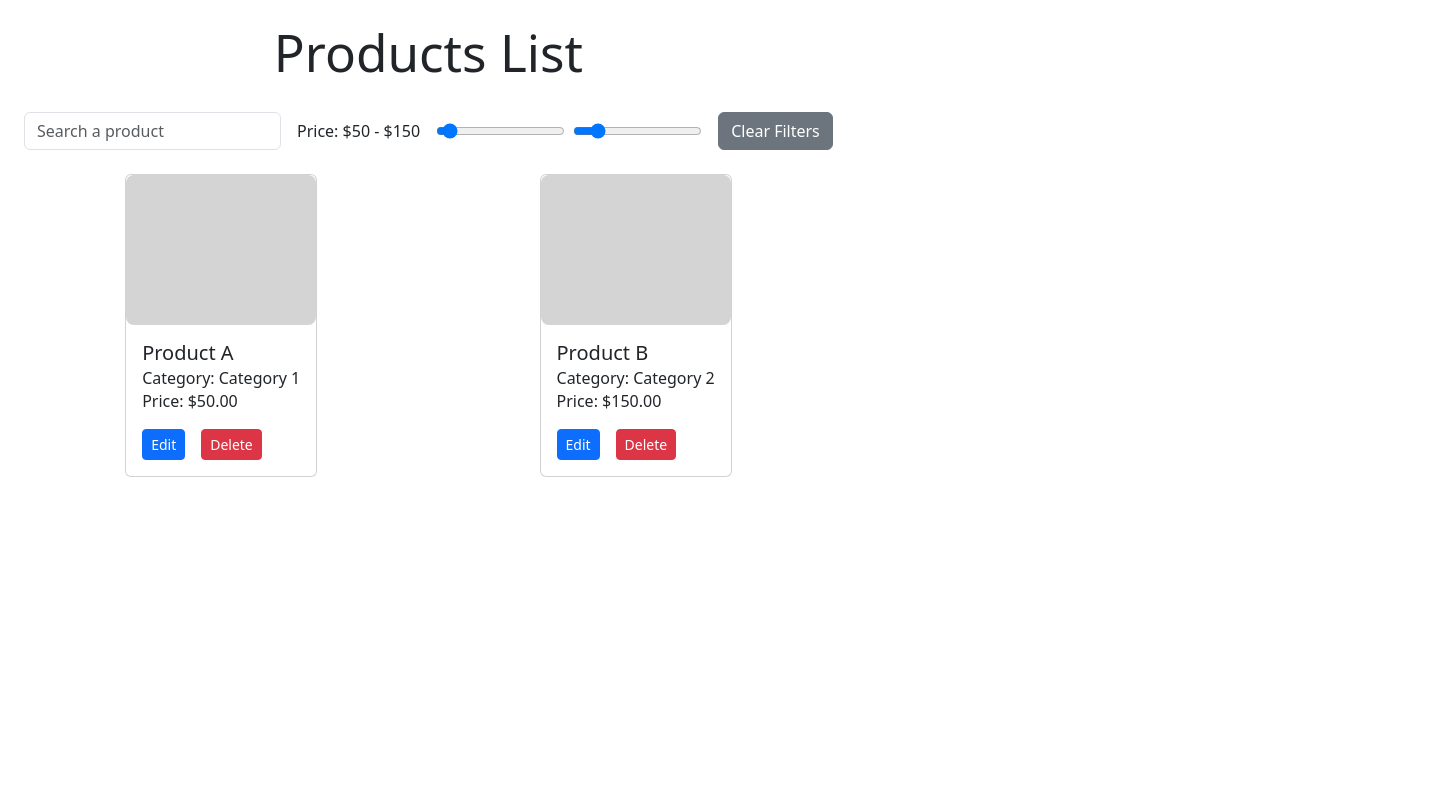
it: ProductList Component › opens and submits the edit modal
Expected: the text "Product A" is shown, [142, 339, 234, 366]
Click the button "Edit" below "Category 1" at [164, 444], box [142, 428, 185, 460]
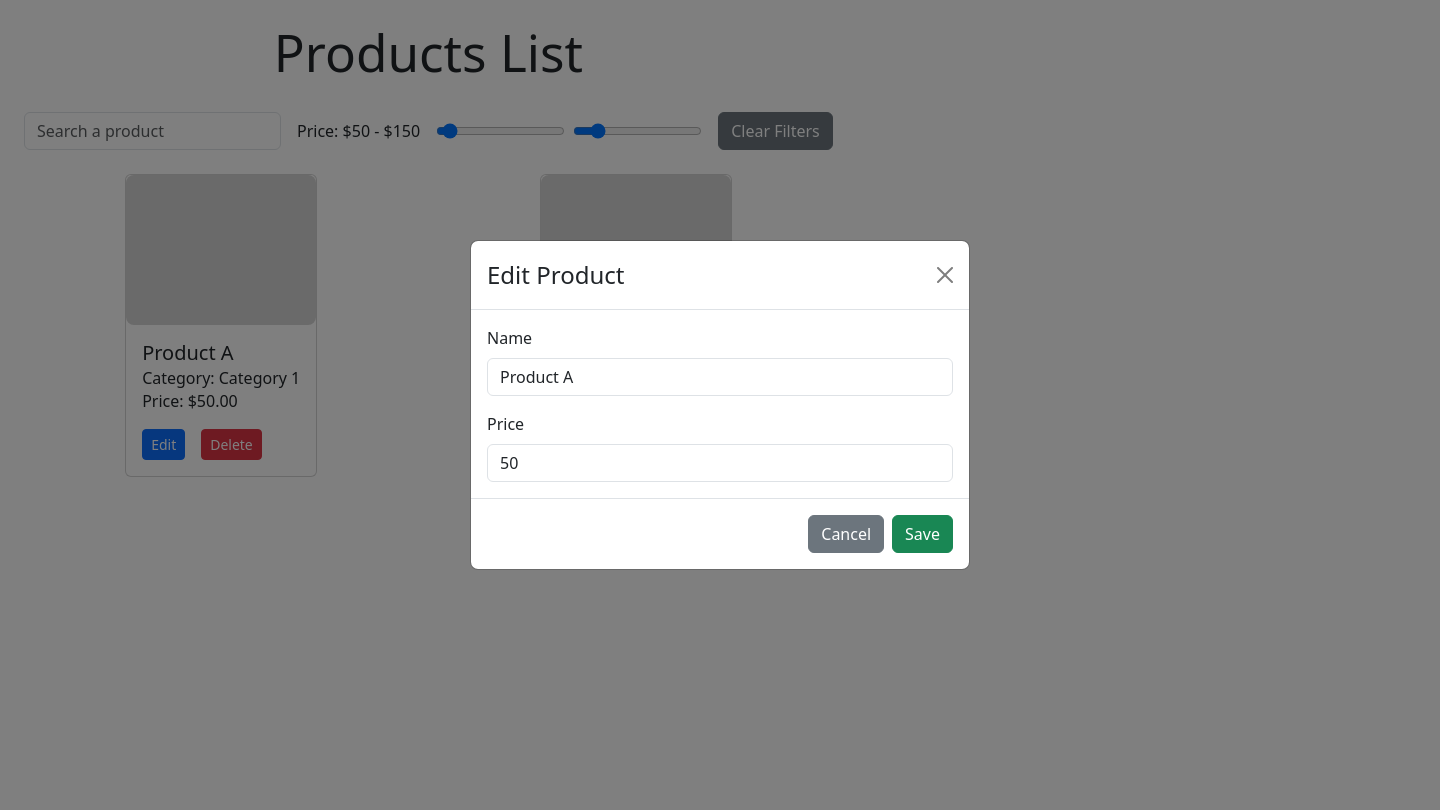
Replace the text in the field labelled "Name" with "Updated Product A" at [720, 377], box [487, 358, 953, 396]
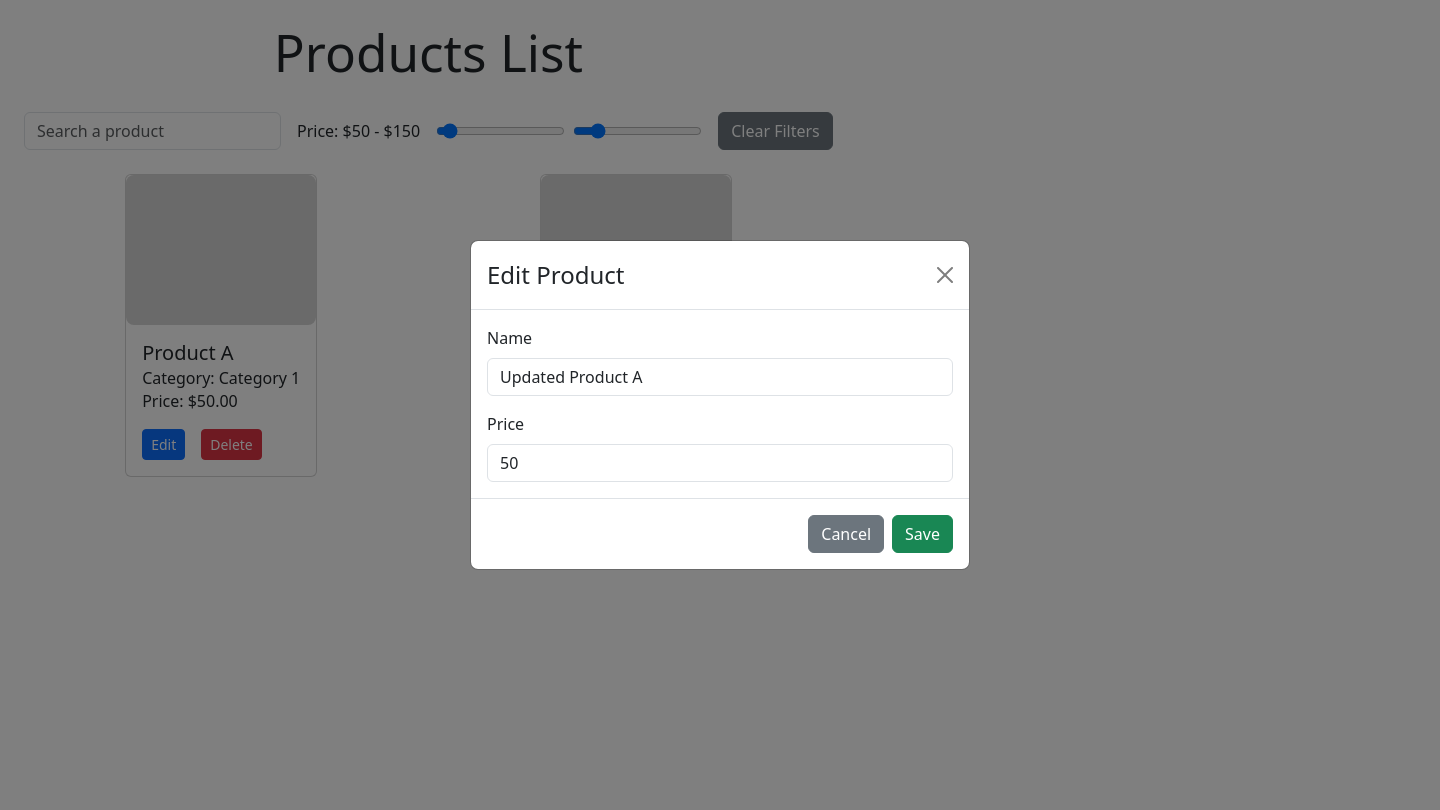
Replace the text in the number field labelled "Price" with "100" at [720, 463], box [487, 444, 953, 482]
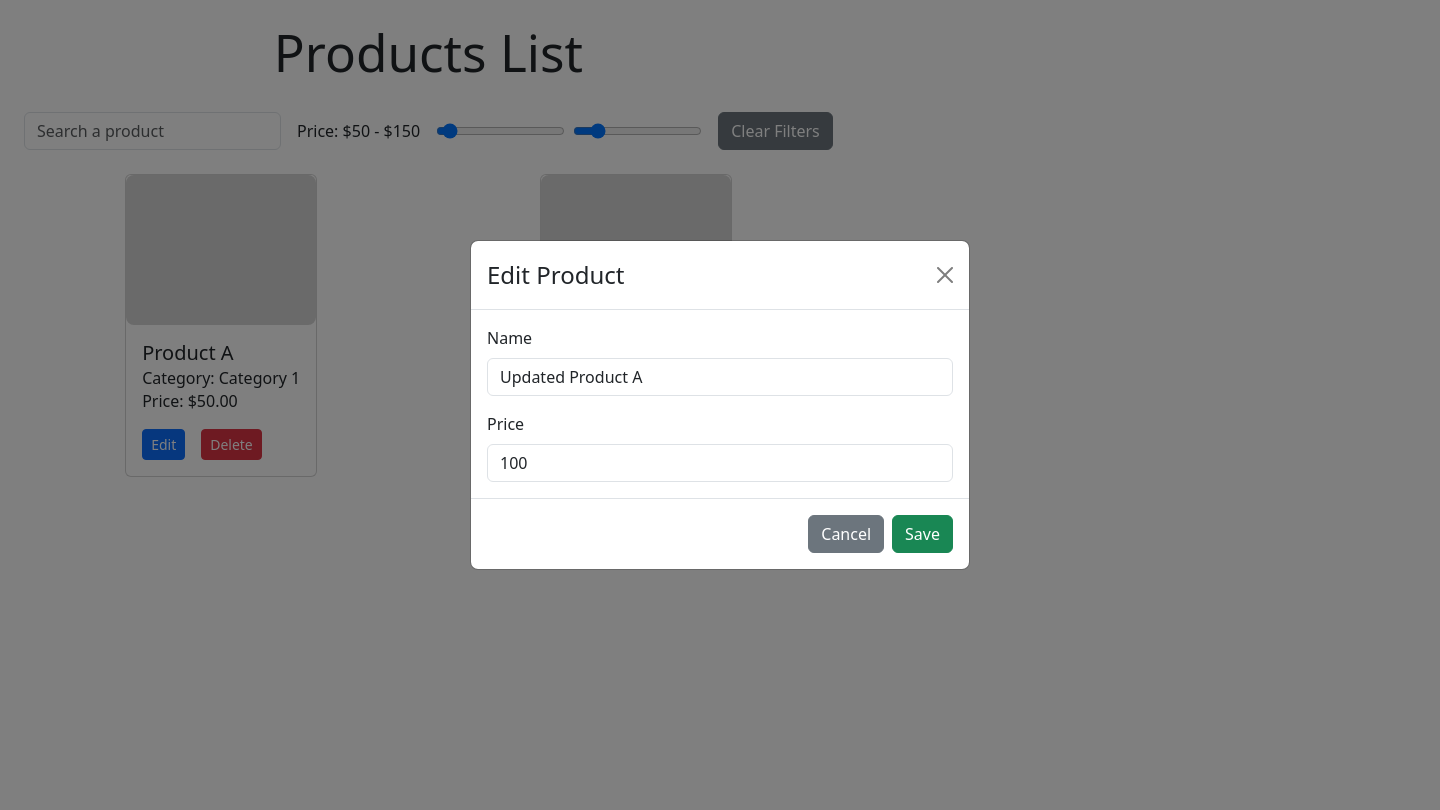
Click the button "Save" at [923, 534], box [892, 515, 953, 553]
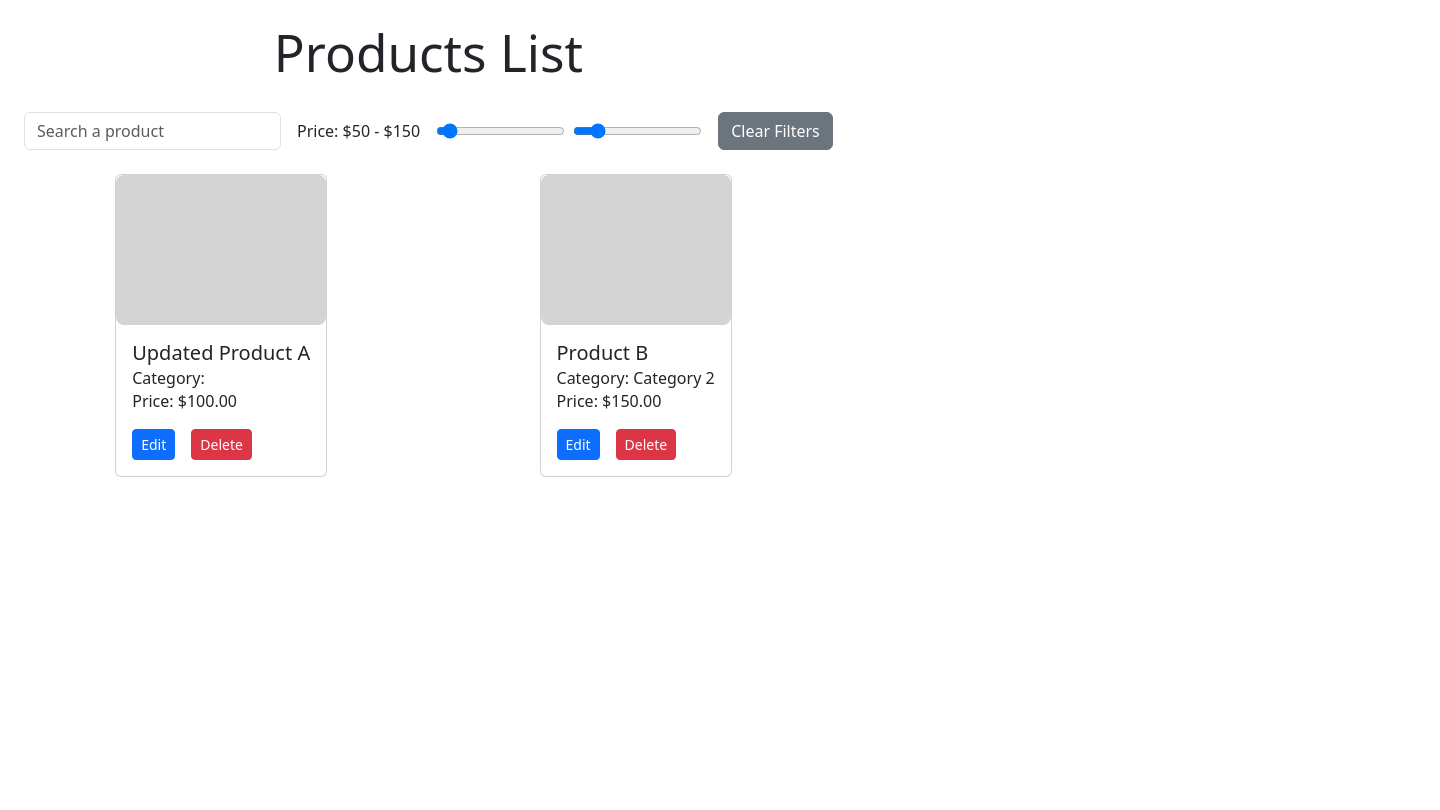
Now the text "Updated Product A" is shown, box [132, 341, 310, 365]
